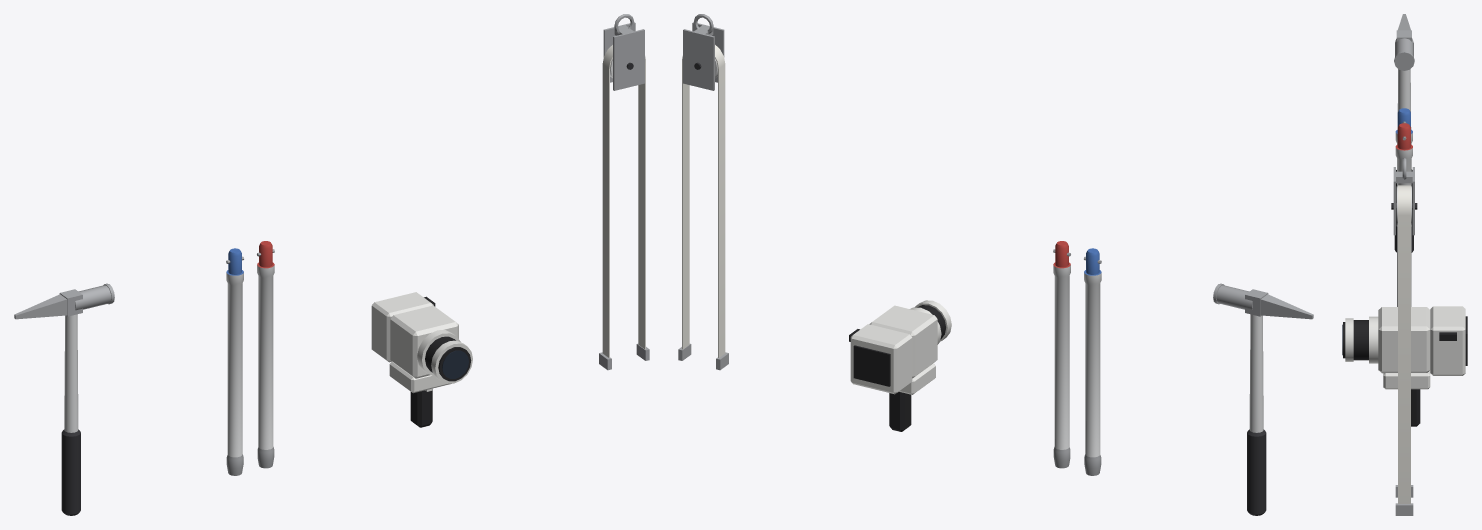
Rendered from eva-tools.glb.
3 renders of one model, left to right at view 1: azimuth 30°, elevation 25°; view 2: azimuth 150°, elevation 25°; view 3: azimuth 270°, elevation 25°, orthographic.
Visible parts, largest first — view 1: hasselblad-geo, lec-pulley-geo, geo-hammer-geo, core-tube-1-geo, core-tube-2-geo; view 2: hasselblad-geo, lec-pulley-geo, geo-hammer-geo, core-tube-1-geo, core-tube-2-geo; view 3: hasselblad-geo, lec-pulley-geo, geo-hammer-geo, core-tube-2-geo, core-tube-1-geo.
Part boxes in pixels (x1=…): hasselblad-geo: x1=371, y1=292, x2=472, y2=427; lec-pulley-geo: x1=599, y1=14, x2=649, y2=370; geo-hammer-geo: x1=14, y1=283, x2=114, y2=515; core-tube-1-geo: x1=226, y1=248, x2=243, y2=475; core-tube-2-geo: x1=257, y1=241, x2=274, y2=468; hasselblad-geo: x1=849, y1=300, x2=951, y2=431; lec-pulley-geo: x1=678, y1=14, x2=728, y2=370; geo-hammer-geo: x1=1213, y1=283, x2=1313, y2=515; core-tube-1-geo: x1=1084, y1=248, x2=1101, y2=475; core-tube-2-geo: x1=1053, y1=241, x2=1070, y2=468; hasselblad-geo: x1=1342, y1=306, x2=1467, y2=426; lec-pulley-geo: x1=1391, y1=157, x2=1417, y2=515; geo-hammer-geo: x1=1394, y1=14, x2=1414, y2=252; core-tube-2-geo: x1=1395, y1=123, x2=1412, y2=306; core-tube-1-geo: x1=1395, y1=108, x2=1412, y2=144.
Bounding box in the file's own units: 1.23 × 0.6795 × 0.213.
